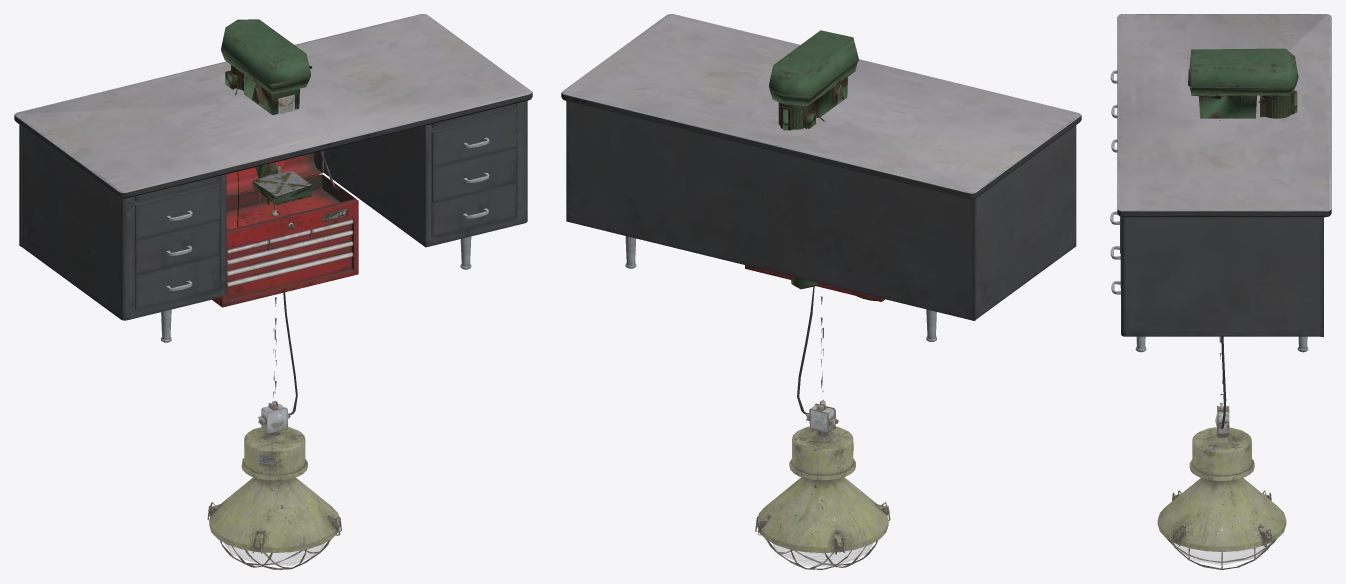
Rendered from workshop.glb.
3 views of the same model, side by side, from view 1: azimuth 30°, elevation 25°; view 2: azimuth 150°, elevation 25°; view 3: azimuth 270°, elevation 25° (orthographic). The views are drawn at different scales.
Visible parts, largest first — view 1: metal_office_desk, metal_tool_chest_chest, hanging_industrial_lamp, old_drill_press, metal_office_desk_drawer_04, metal_office_desk_drawer_01, metal_office_desk_drawer_02, metal_office_desk_drawer_03, metal_office_desk_drawer_06, metal_office_desk_drawer_05, metal_tool_chest_lid; view 2: metal_office_desk, hanging_industrial_lamp, old_drill_press; view 3: metal_office_desk, hanging_industrial_lamp, old_drill_press.
Part boxes in pixels (<box>): metal_office_desk: <box>14,14,532,342</box>; metal_tool_chest_chest: <box>212,174,358,307</box>; hanging_industrial_lamp: <box>207,292,341,569</box>; old_drill_press: <box>221,19,311,276</box>; metal_office_desk_drawer_04: <box>135,183,220,239</box>; metal_office_desk_drawer_01: <box>431,111,517,167</box>; metal_office_desk_drawer_02: <box>431,146,517,202</box>; metal_office_desk_drawer_03: <box>431,182,516,237</box>; metal_office_desk_drawer_06: <box>135,254,220,310</box>; metal_office_desk_drawer_05: <box>135,220,220,275</box>; metal_tool_chest_lid: <box>226,151,322,195</box>; metal_office_desk: <box>561,14,1081,341</box>; hanging_industrial_lamp: <box>755,286,890,569</box>; old_drill_press: <box>768,30,859,289</box>; metal_office_desk: <box>1117,14,1331,352</box>; hanging_industrial_lamp: <box>1157,336,1286,569</box>; old_drill_press: <box>1188,48,1298,120</box>.
Bounding box in the file's own units: 2 × 2.39 × 0.9472.
Materials: 6 (5 with a texture image).
